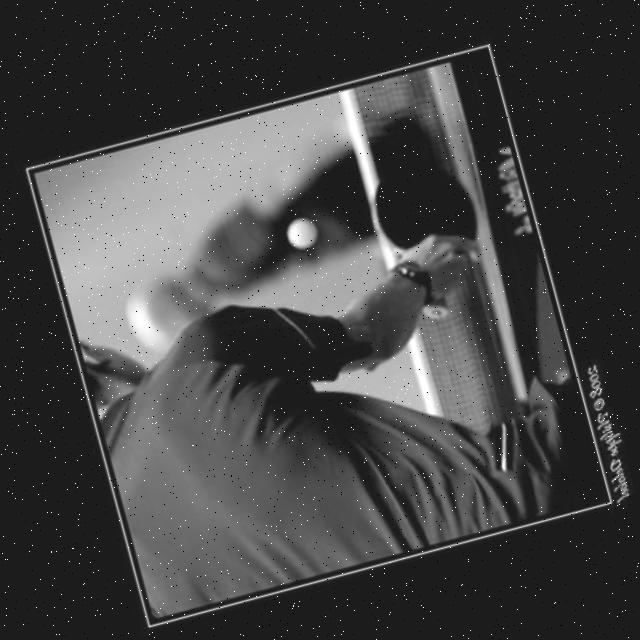ping-pong-ball: (282, 213, 321, 252)
